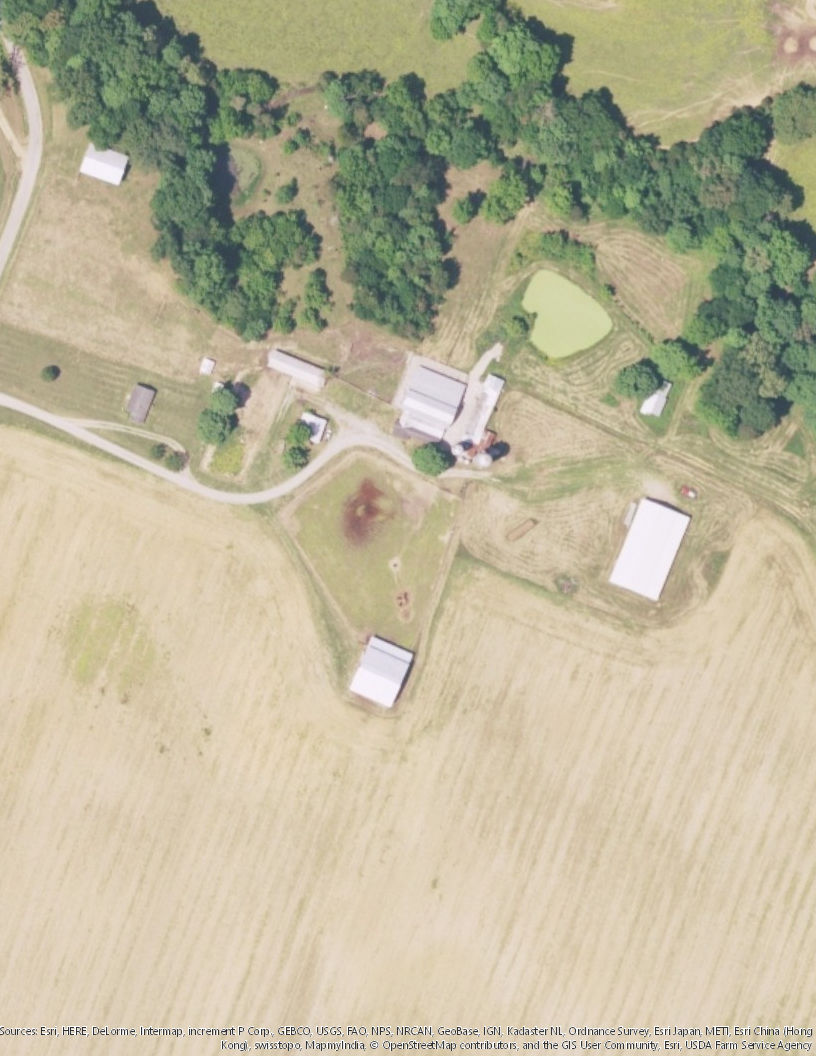cafo: (607, 491, 694, 609), (345, 632, 418, 716), (265, 347, 331, 393)
